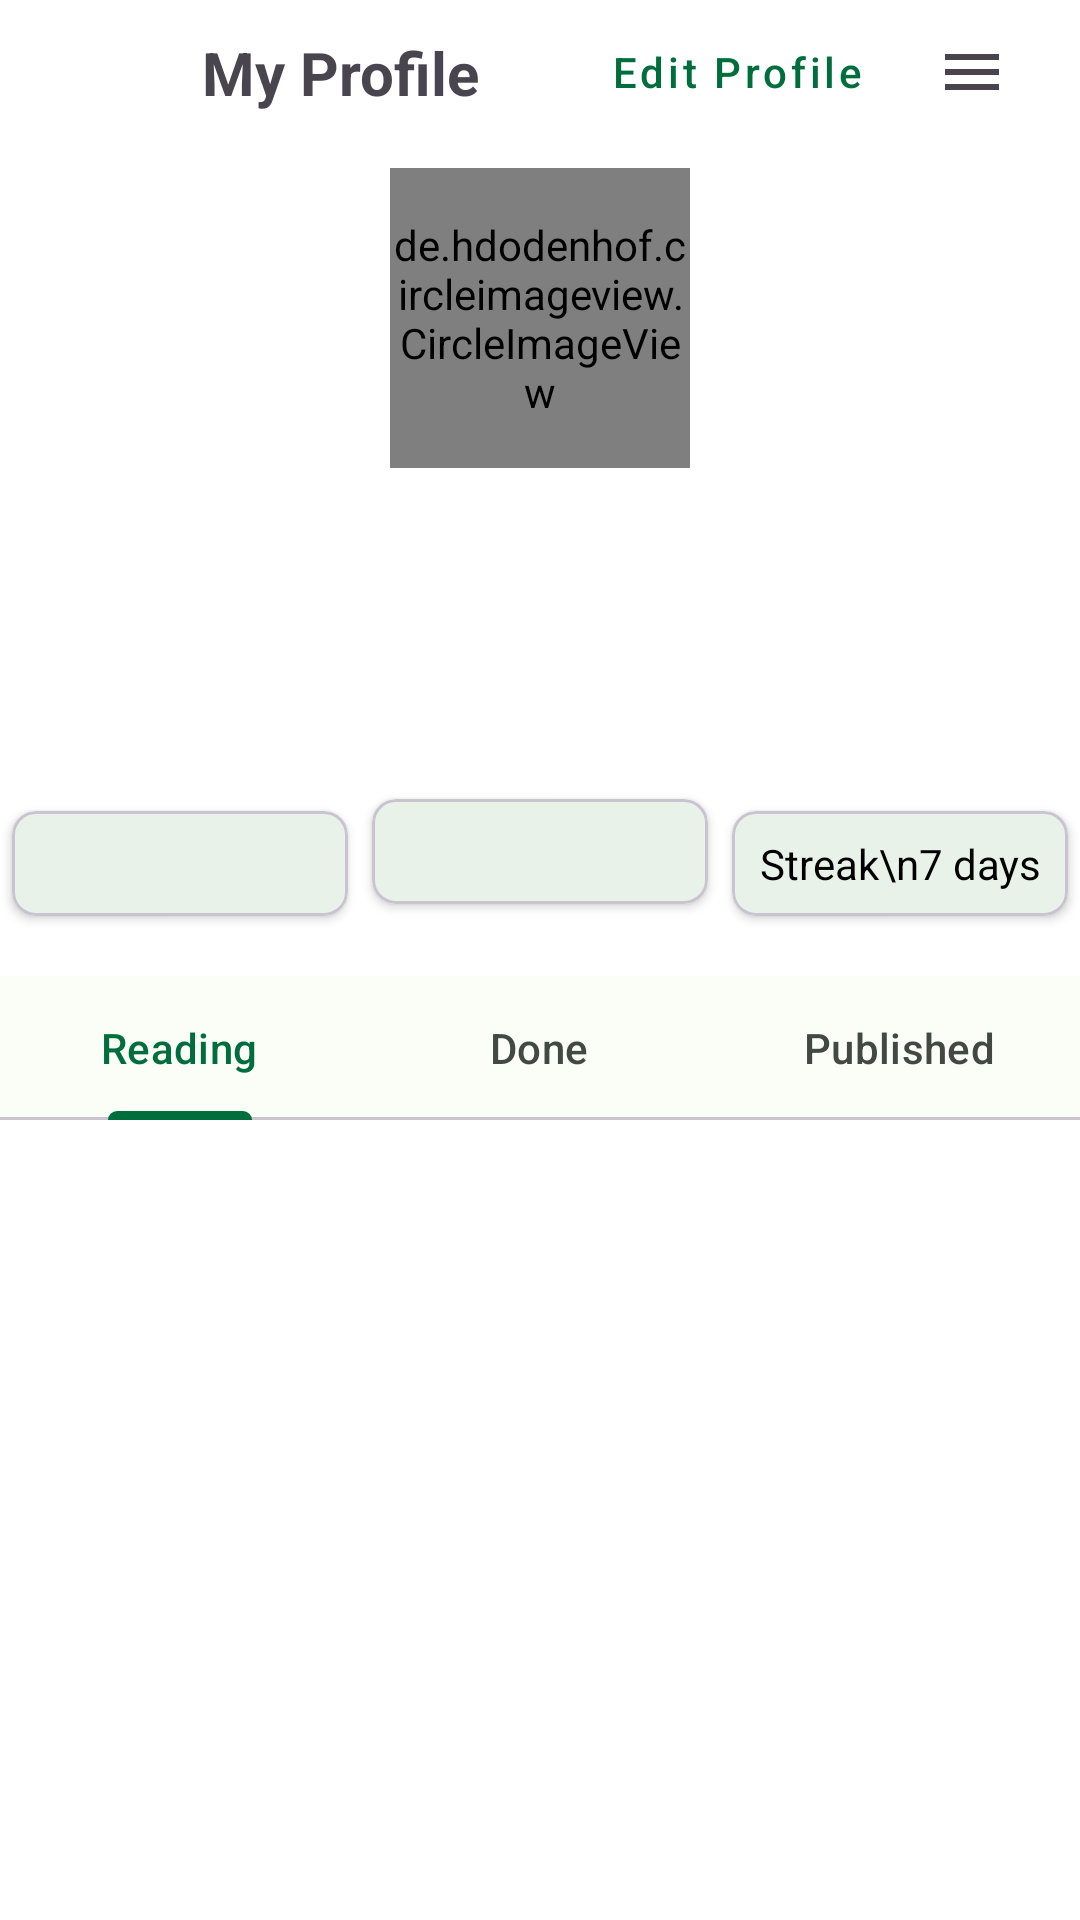

Locate icon controls on the screen. Image size 1080x1920, boxes as (x1, y1, x2, y2).
menu: (945, 54, 999, 90)
